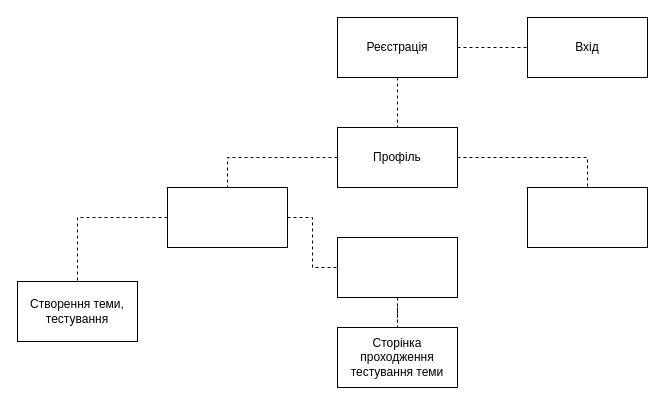
Image size: 665x405. Some labels were removed from this diagram. Here are the shapes that lost their labels. From the top down, the centre of each, then its label:
At (x=227, y=217): "Навчальні матеріали".
At (x=587, y=217): "Сторінка адміністратора".
At (x=397, y=267): "Сторінка теми".
